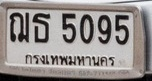txt09: (7, 11, 31, 43)
txt19: (31, 11, 51, 43)
